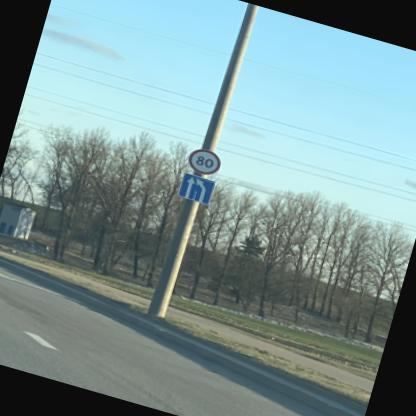speedlimit: (184, 145, 222, 176)
